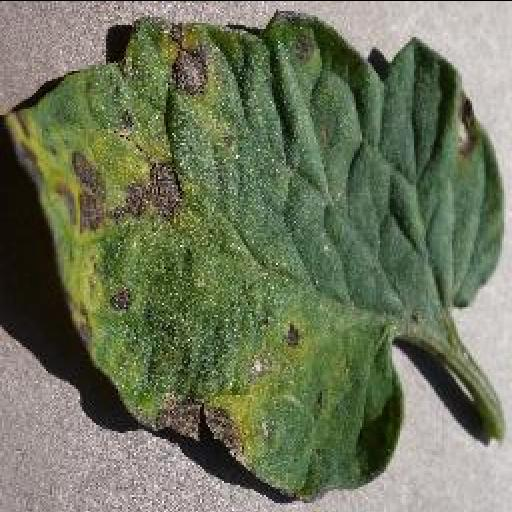disease_tomato: (6, 9, 504, 497)
